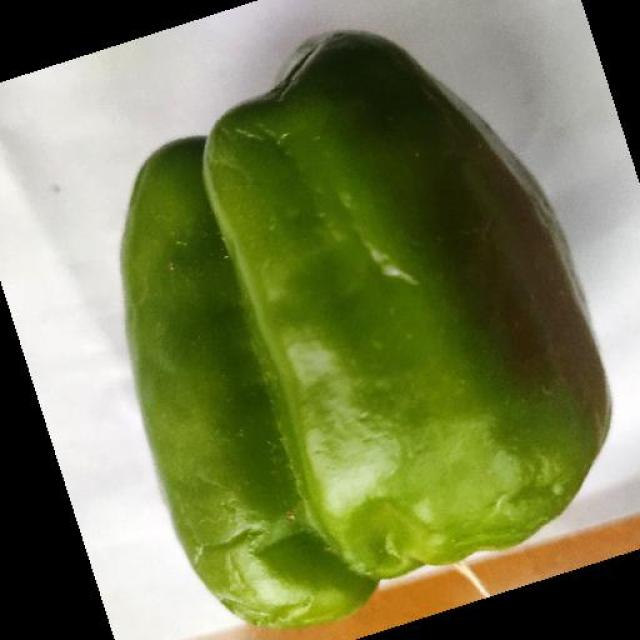Stale_Capsicum: (128, 181, 568, 552)
